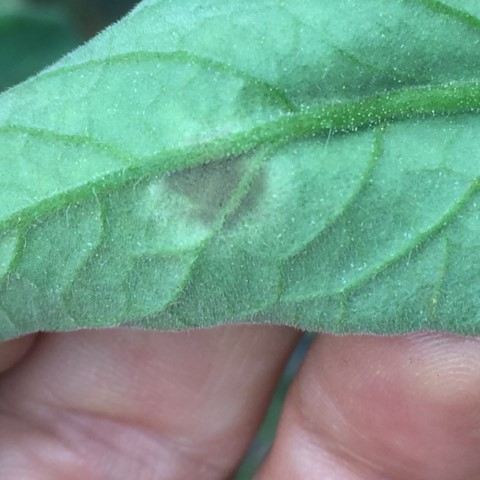negra: (166, 151, 271, 231)
